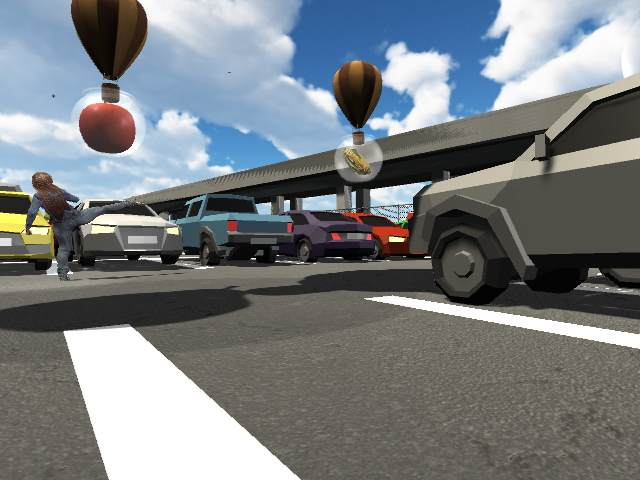turn_right: (22, 169, 138, 284)
